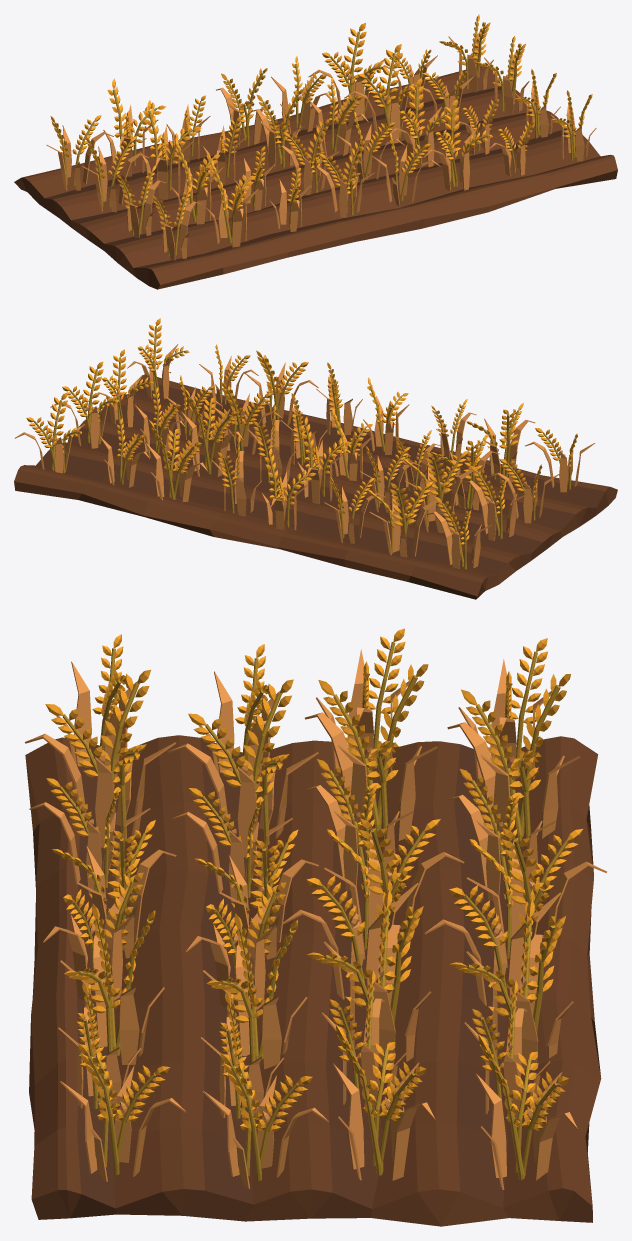
File: WheatHarvest_1.fbx
3 renders of one model, top to bottom at view 1: azimuth 30°, elevation 25°; view 2: azimuth 150°, elevation 25°; view 3: azimuth 270°, elevation 25°, orthographic. The views are drawn at different scales.
Parts seen in each view (by area): view 1: WheatHarvest_1; view 2: WheatHarvest_1; view 3: WheatHarvest_1.
Part boxes in pixels (box(x1,y1,x2,y2)): WheatHarvest_1: box(14, 14, 617, 289); WheatHarvest_1: box(14, 318, 617, 599); WheatHarvest_1: box(25, 628, 606, 1226).
Bounding box in the file's own units: 1011 × 205 × 545.
